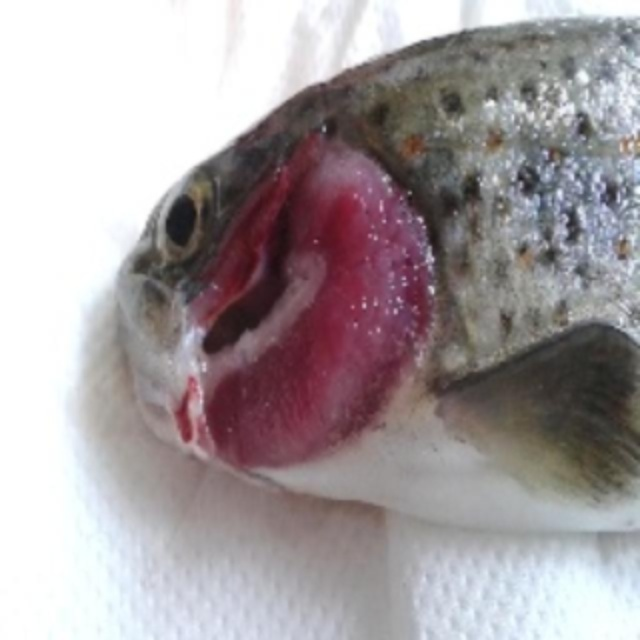Gill Disease: (99, 41, 580, 526)
